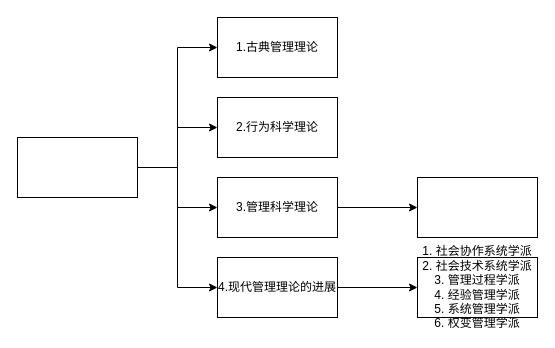
This 555x348 diagram has some shape labels left out. Here are the shapes that lost their labels. From the top down, the centre of each, then its label:
At (77,167): "管理理论的演进".
At (477,207): "1.定义 2.理论特征 3.科学解决问题的程序".
